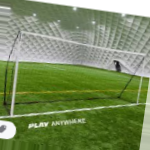goals: (4, 28, 147, 122)
